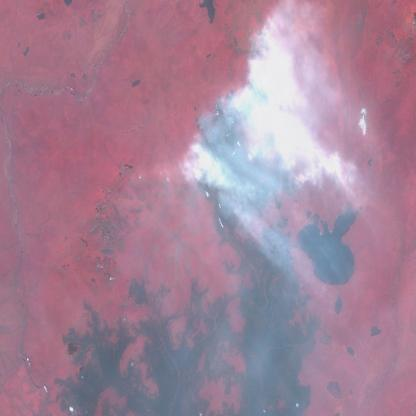fire: (190, 68, 300, 209)
